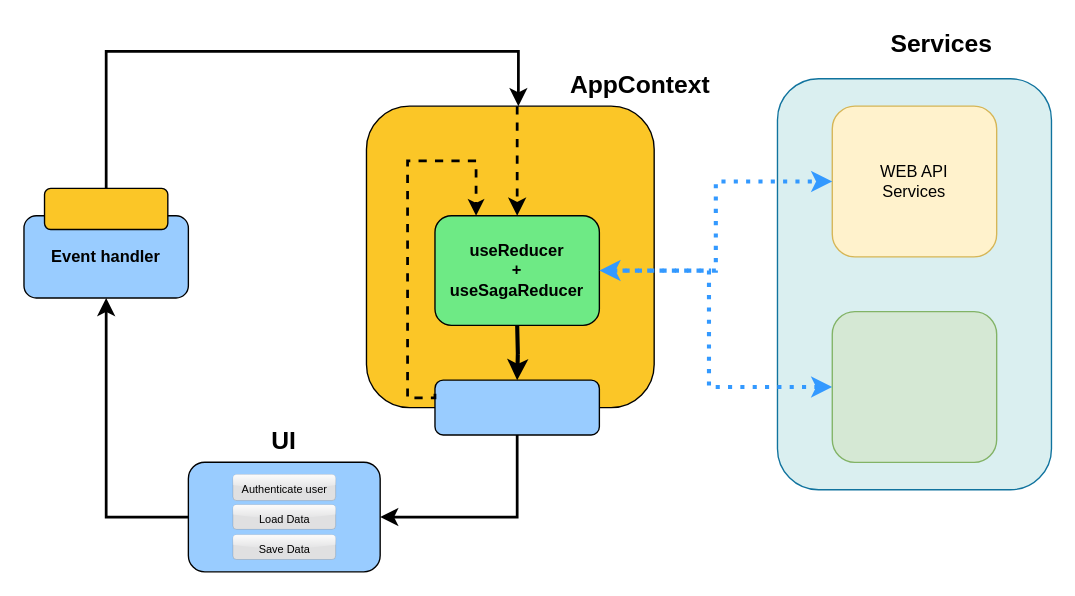
Some shapes in this 1075 by 596 pixel diagram are drawn without their labels. Here are the shapes that lost their labels. From the top down, the box of each, then its label:
(43, 187, 168, 229): dispatch()
(831, 310, 997, 462): Other Services
(434, 379, 599, 435): State
